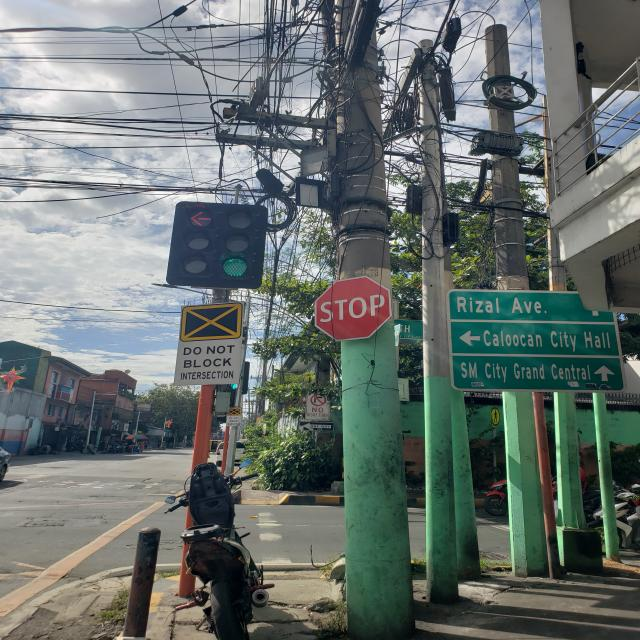stop-sign: (314, 275, 393, 342)
